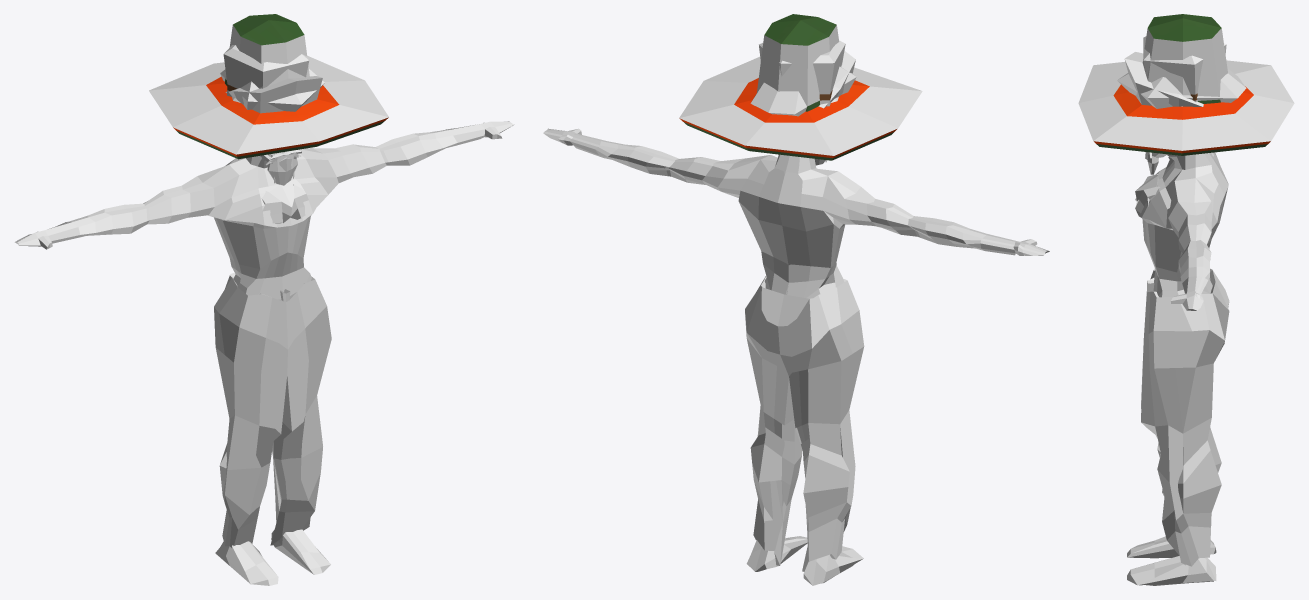
File: Accesories_fixed_01.fbx
The picture shows the model from 3 angles, left to right: view 1: azimuth 30°, elevation 25°; view 2: azimuth 150°, elevation 25°; view 3: azimuth 270°, elevation 25°; orthographic projection.
Visible parts, largest first — view 1: Body.001, Body, MexicoHat, Hat03, Hat02, BodyHair, ExpeditionHat; view 2: Body.001, Body, MexicoHat, ExpeditionHat, Hat03; view 3: MexicoHat, Body.001, Body, ExpeditionHat, Hat03, Hat02, BodyHair.
Part boxes in pixels (x1=…): Body.001: x1=214, y1=272, x2=331, y2=547; Body: x1=14, y1=121, x2=514, y2=585; MexicoHat: x1=149, y1=14, x2=388, y2=159; Hat03: x1=223, y1=45, x2=309, y2=96; Hat02: x1=225, y1=76, x2=322, y2=113; BodyHair: x1=261, y1=184, x2=308, y2=223; ExpeditionHat: x1=220, y1=69, x2=324, y2=111; Body.001: x1=745, y1=276, x2=864, y2=571; Body: x1=543, y1=128, x2=1049, y2=585; MexicoHat: x1=679, y1=14, x2=922, y2=160; ExpeditionHat: x1=750, y1=66, x2=856, y2=116; Hat03: x1=759, y1=40, x2=845, y2=106; MexicoHat: x1=1078, y1=14, x2=1294, y2=155; Body.001: x1=1141, y1=268, x2=1229, y2=566; Body: x1=1127, y1=152, x2=1228, y2=585; ExpeditionHat: x1=1117, y1=68, x2=1246, y2=108; Hat03: x1=1143, y1=36, x2=1226, y2=101; Hat02: x1=1124, y1=52, x2=1203, y2=106; BodyHair: x1=1135, y1=173, x2=1160, y2=213.
Size of the model in its own units: 630 by 656 by 234.
